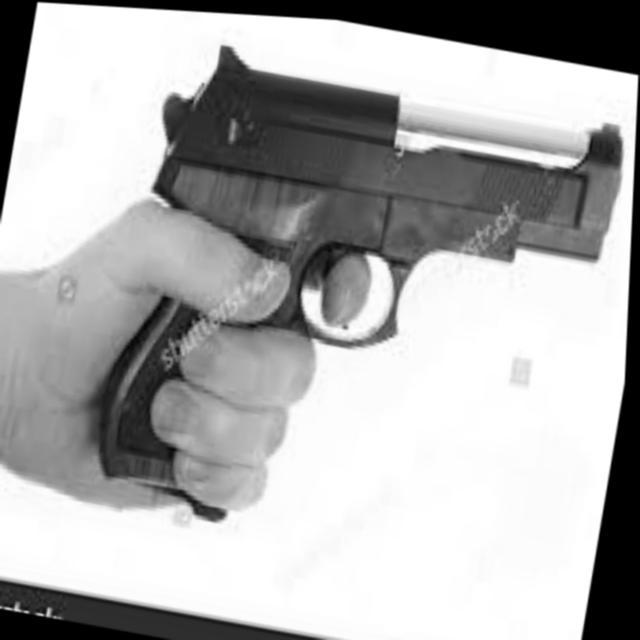weapon: (84, 22, 635, 576)
